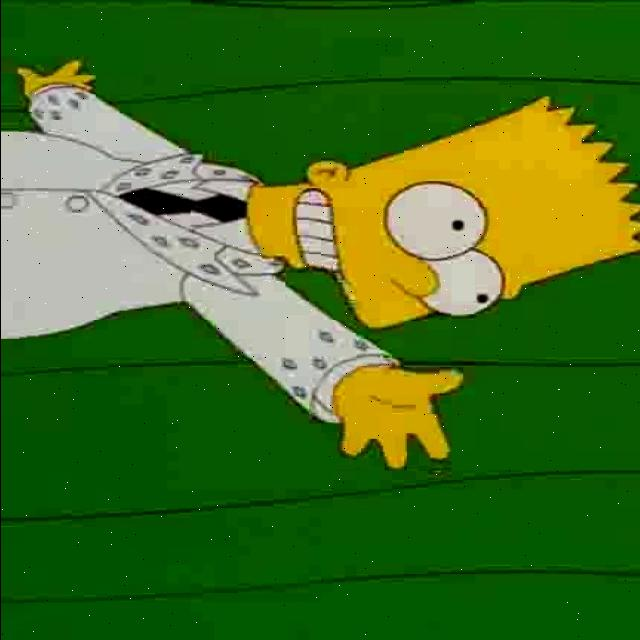Bart Simpson: (246, 96, 640, 330)
